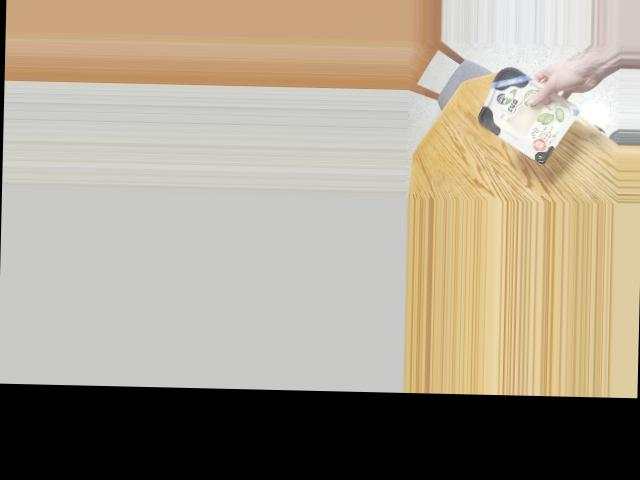cheese: (470, 66, 567, 156)
